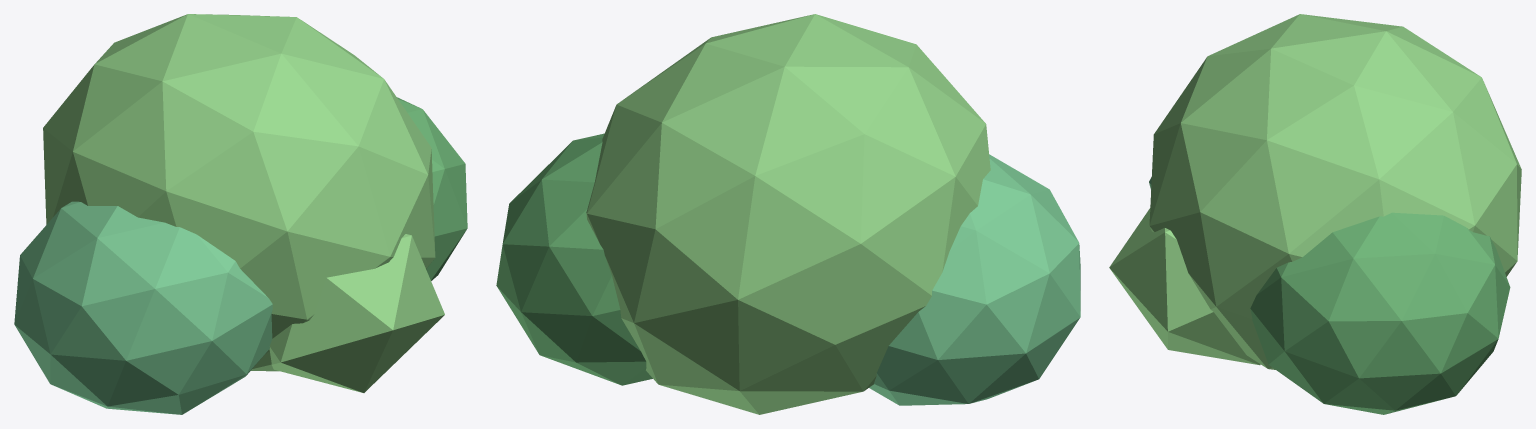
The model's file is env_bush_round_01.glb.
3 views of the same model, side by side, from view 1: azimuth 30°, elevation 25°; view 2: azimuth 150°, elevation 25°; view 3: azimuth 270°, elevation 25° (orthographic). The views are drawn at different scales.
Parts seen in each view (by area): view 1: env_bush_round_01_body; view 2: env_bush_round_01_body; view 3: env_bush_round_01_body.
Part boxes in pixels (bbox=[...]): env_bush_round_01_body: bbox=[14, 14, 467, 414]; env_bush_round_01_body: bbox=[496, 14, 1080, 414]; env_bush_round_01_body: bbox=[1109, 14, 1521, 414].
Bounding box in the file's own units: 1.43 × 0.9694 × 1.17.
